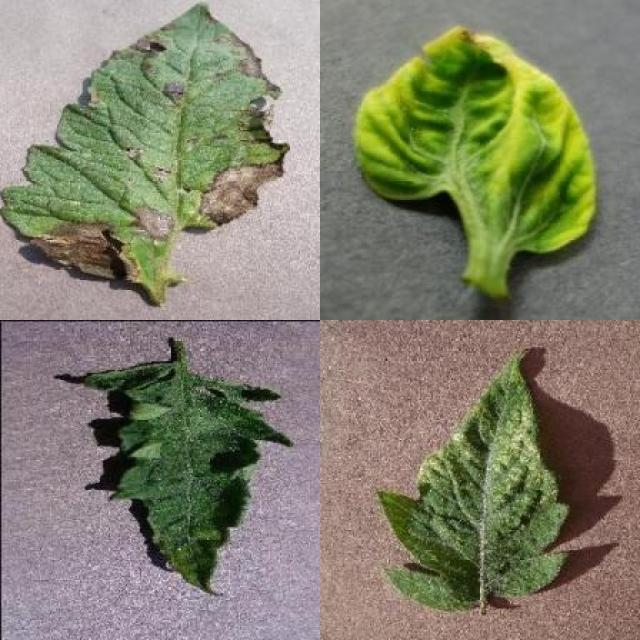Late Blight: (0, 0, 290, 284)
Mosaic Virus: (80, 360, 297, 597)
Spider Mites: (375, 352, 571, 612)
Yellow Leaf Curl Virus: (353, 25, 598, 254)
